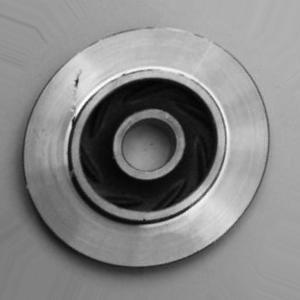defect: (54, 39, 91, 139)
